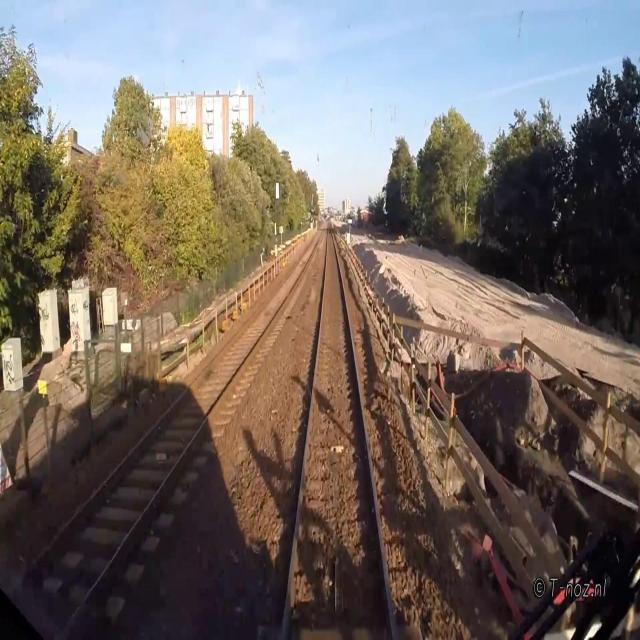rail-track: (9, 226, 323, 636), (284, 223, 391, 639)
